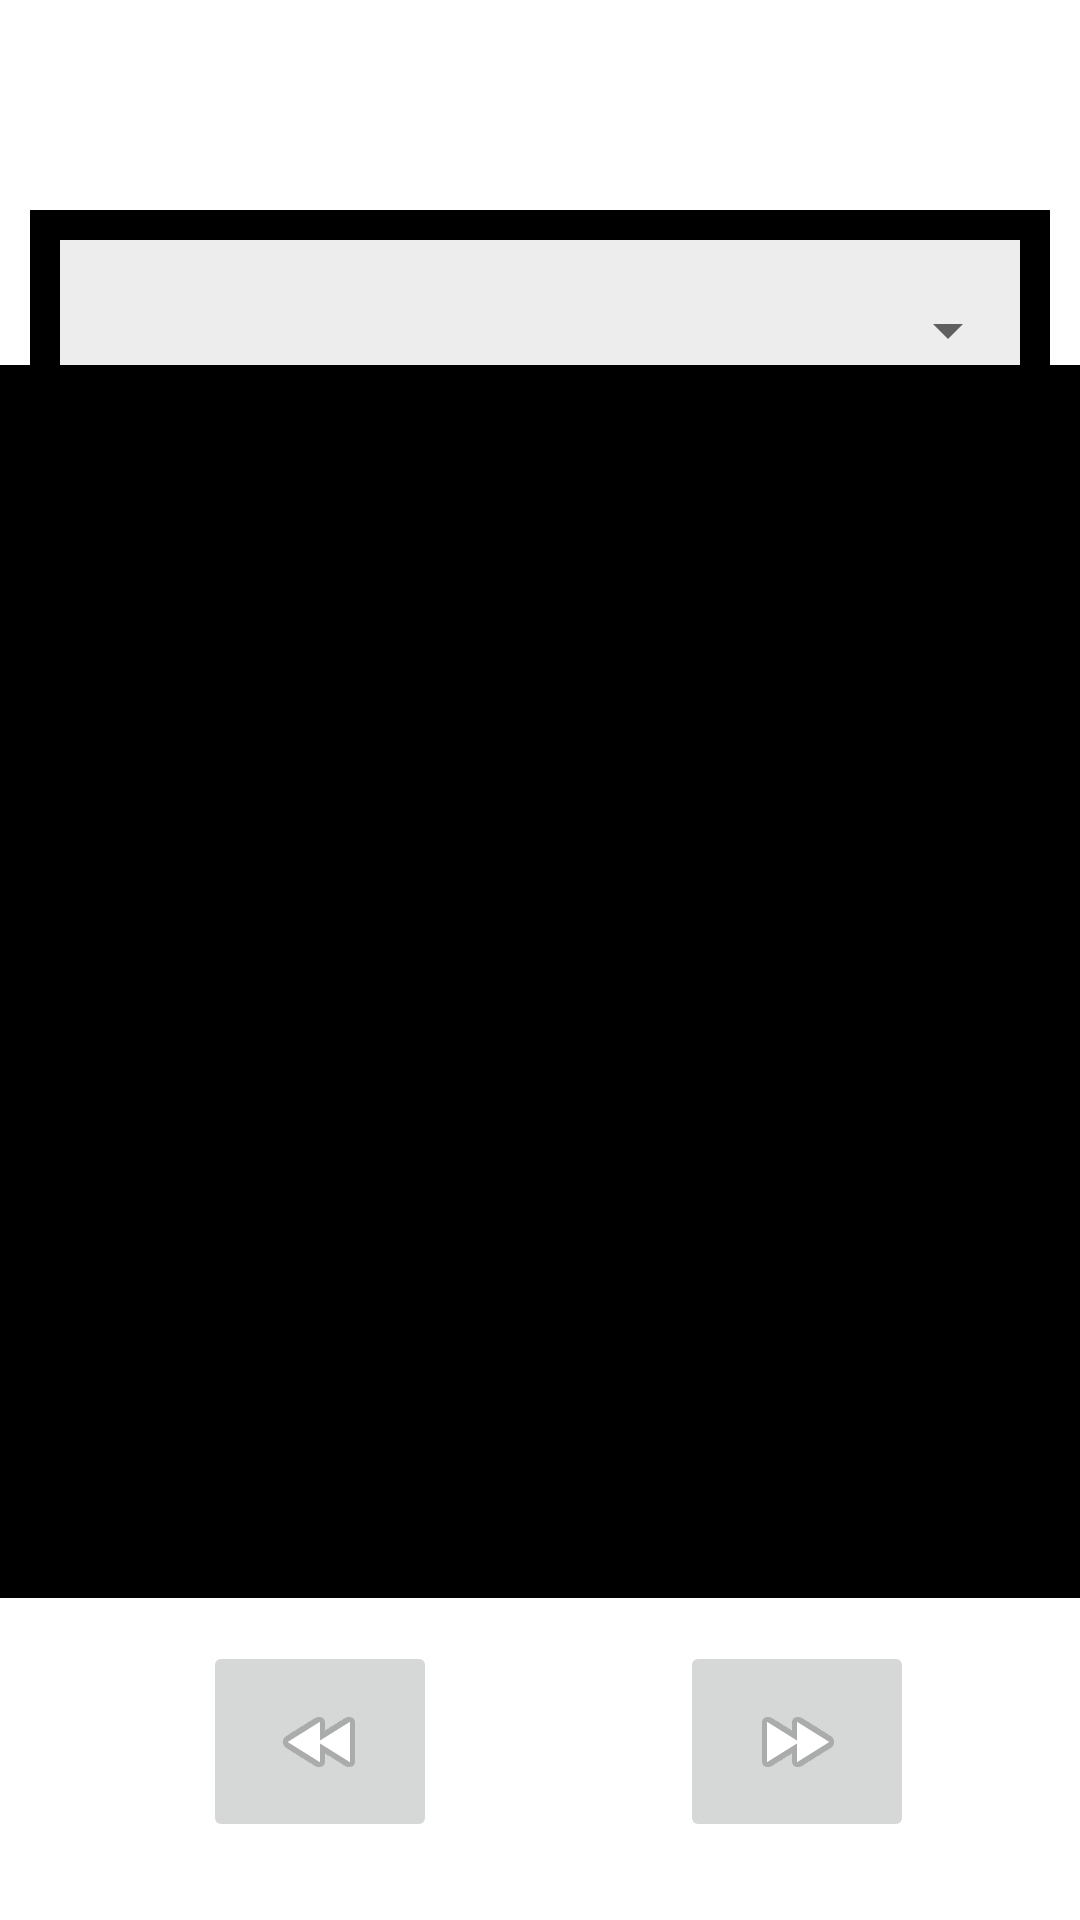

Named icons in this screenshot (1080 x 1920) and their centers, (x,y):
rew: (320,1741)
